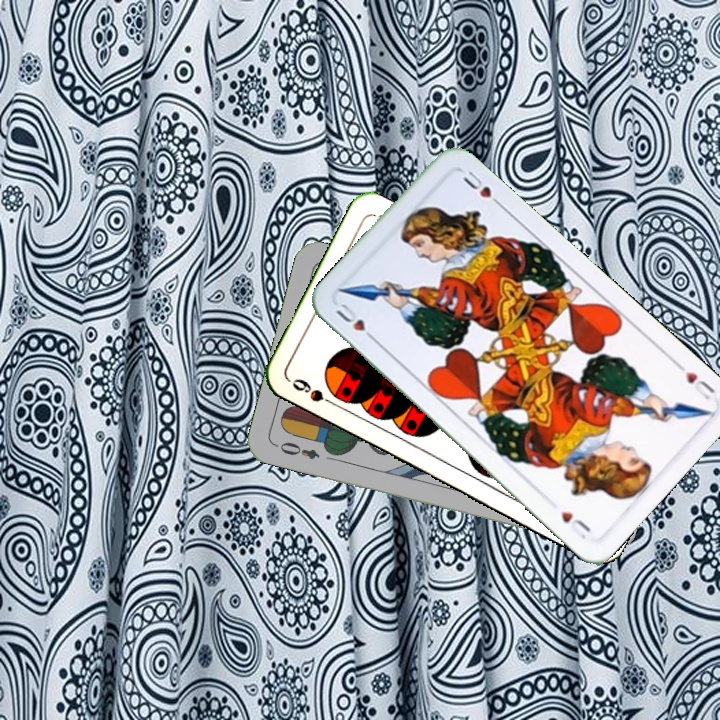EO: (271, 438, 322, 462)
HU: (332, 299, 380, 346), (681, 367, 718, 402)
S9: (288, 374, 342, 410)
